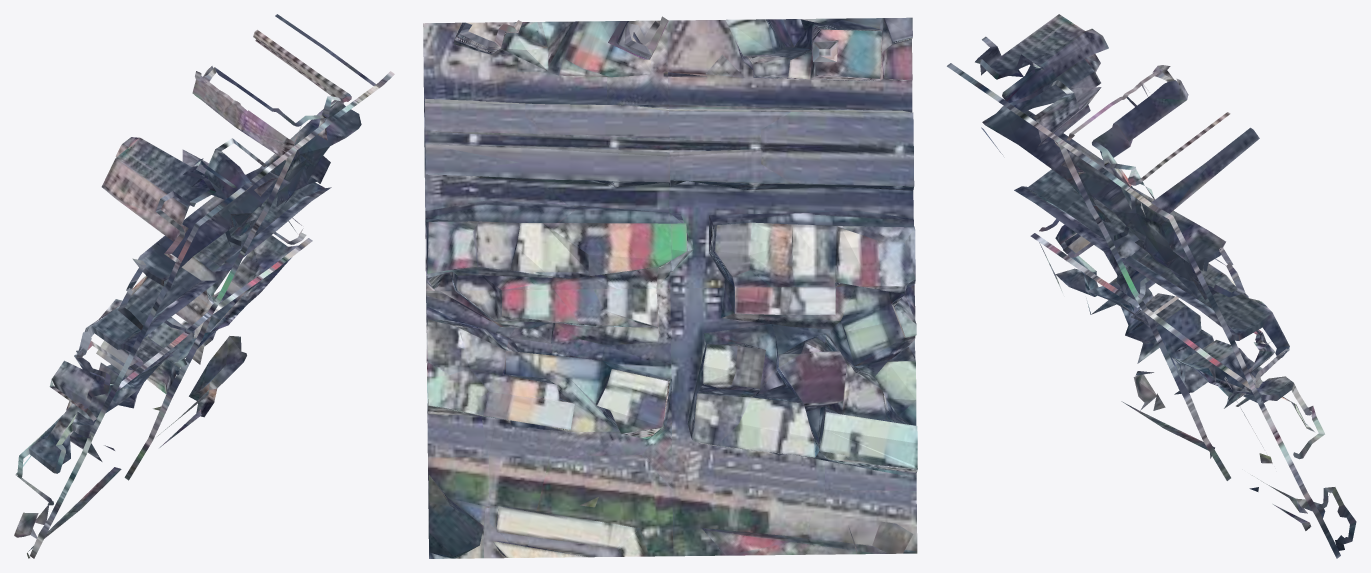
3 renders of one model, left to right at view 1: azimuth 30°, elevation 25°; view 2: azimuth 150°, elevation 25°; view 3: azimuth 270°, elevation 25°, orthographic. The views are drawn at different scales.
Size of the model in its own units: 155 by 158 by 134.
1 material, 1 textured.
